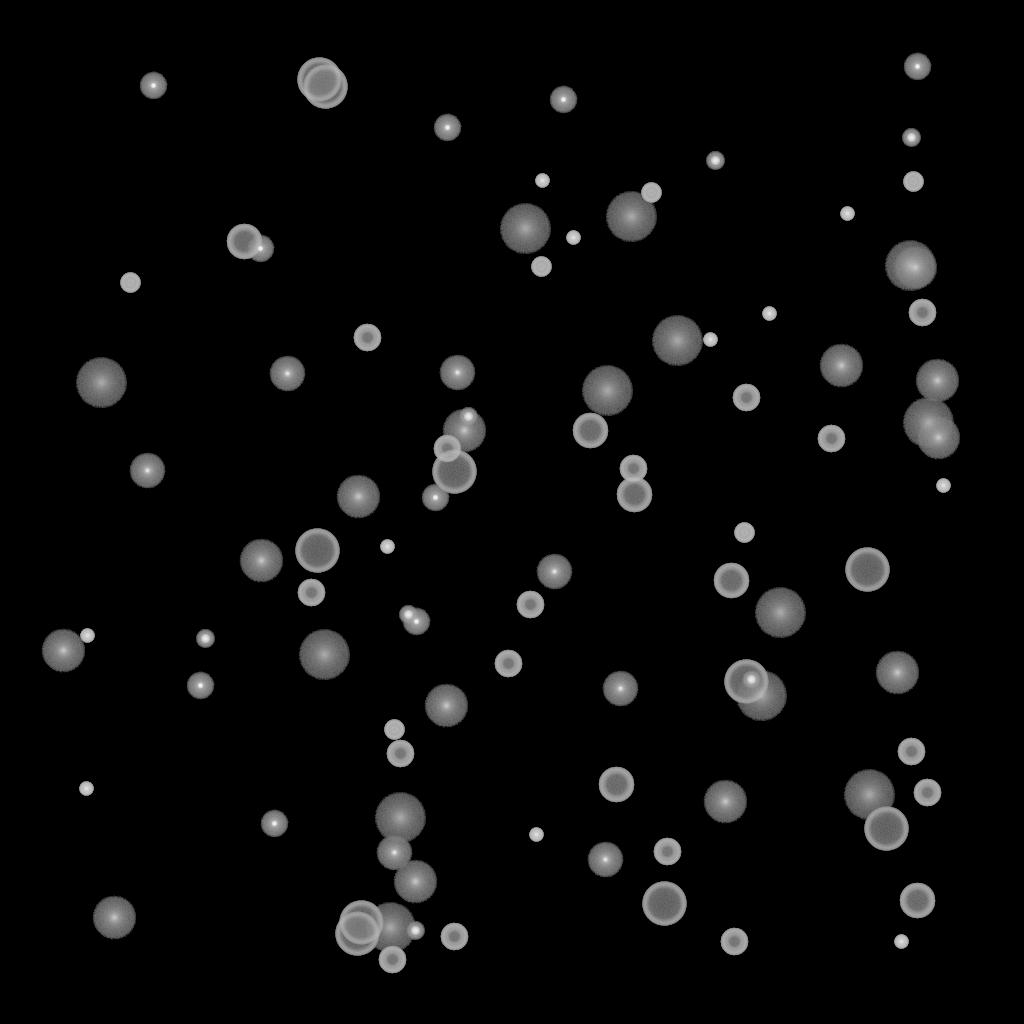depth:-10: (186, 672, 214, 700), (139, 72, 167, 100), (903, 53, 931, 81), (260, 810, 288, 838), (402, 608, 430, 636), (246, 235, 274, 263), (433, 114, 461, 142), (421, 484, 449, 512), (549, 86, 577, 114)
depth:-20: (196, 630, 214, 648), (742, 671, 760, 689), (406, 922, 424, 940), (399, 606, 417, 624), (902, 129, 920, 147), (459, 408, 477, 426), (706, 152, 724, 170)
depth:-30: (79, 782, 93, 796), (535, 174, 549, 188), (703, 333, 717, 347), (762, 307, 776, 321), (529, 828, 543, 842), (894, 935, 908, 949), (840, 207, 854, 221), (936, 479, 950, 493), (380, 540, 394, 554), (566, 231, 580, 245), (80, 629, 94, 643)
depth:-40: (903, 172, 923, 192), (384, 720, 404, 740), (641, 183, 661, 203), (734, 523, 754, 543), (120, 273, 140, 293), (531, 257, 551, 277)
depth:-50: (378, 946, 406, 974), (720, 928, 748, 956), (653, 838, 681, 866), (817, 425, 845, 453), (897, 738, 925, 766), (440, 923, 468, 951), (353, 324, 381, 352), (732, 384, 760, 412), (433, 435, 461, 463), (386, 740, 414, 768), (297, 579, 325, 607), (516, 591, 544, 619), (913, 779, 941, 807), (494, 650, 522, 678), (908, 299, 936, 327), (619, 455, 647, 483)
depth:-60: (572, 413, 608, 449), (616, 477, 652, 513), (899, 883, 935, 919), (598, 767, 634, 803), (713, 563, 749, 599), (226, 224, 262, 260)
depth:-70: (432, 450, 476, 494), (642, 882, 686, 926), (339, 901, 383, 945), (864, 807, 908, 851), (845, 548, 889, 592), (724, 660, 768, 704), (297, 58, 341, 102), (295, 529, 339, 573), (335, 912, 379, 956), (303, 65, 347, 109)
depth:0: (587, 842, 623, 878), (376, 835, 412, 871), (439, 355, 475, 391), (536, 554, 572, 590), (129, 453, 165, 489), (602, 671, 638, 707), (269, 356, 305, 392)
depth:10: (893, 246, 937, 290), (239, 539, 283, 583), (703, 780, 747, 824), (916, 416, 960, 460), (41, 629, 85, 673), (424, 684, 468, 728), (92, 896, 136, 940), (393, 860, 437, 904), (336, 475, 380, 519), (875, 651, 919, 695), (819, 344, 863, 388), (915, 359, 959, 403), (442, 409, 486, 453)
depth:20: (884, 241, 936, 291), (735, 671, 787, 721), (364, 903, 416, 953), (843, 770, 895, 820), (902, 398, 954, 448), (651, 316, 703, 366), (374, 793, 426, 843), (499, 204, 551, 254), (75, 358, 127, 408), (754, 588, 806, 638), (605, 192, 657, 242), (581, 366, 633, 416), (298, 630, 350, 680)
